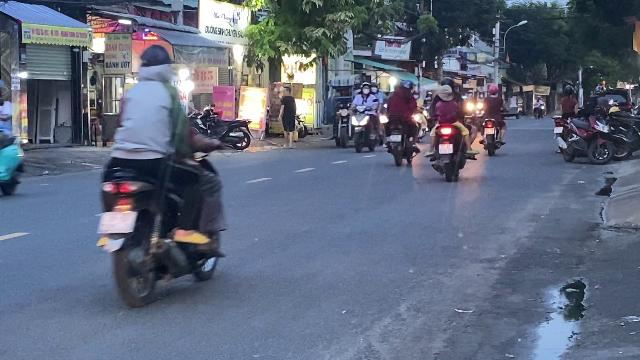helmet: (135, 45, 175, 83), (440, 76, 454, 88)
licenseplate: (98, 212, 136, 232), (439, 144, 453, 152)
motorcyclist: (94, 41, 230, 307), (424, 75, 472, 181)
nohelmet: (436, 84, 454, 100)
